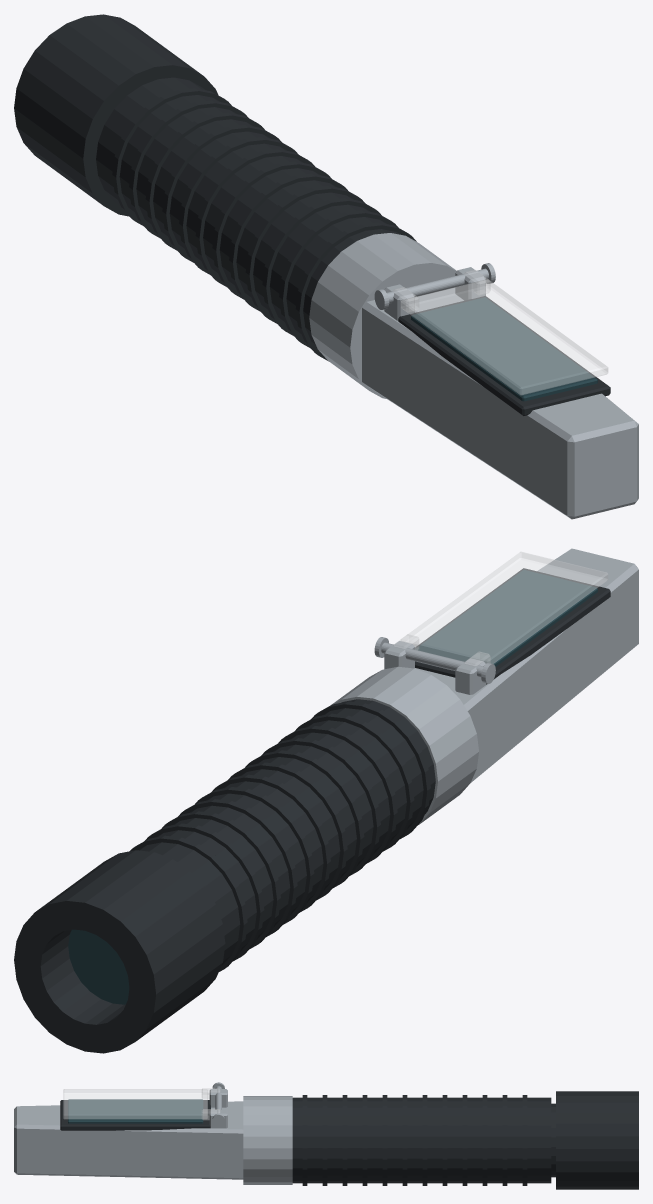
File: full.glb
3 renders of one model, top to bottom at view 1: azimuth 30°, elevation 25°; view 2: azimuth 150°, elevation 25°; view 3: azimuth 270°, elevation 25°, orthographic. The views are drawn at different scales.
Visible parts, largest first — view 1: Tapered sample head, Coaxial grip, Flared open eyecup, Daylight transparent flap, Front metal collar, Dark rectangular prism, Prism seating surround, Grip ridge 0, Grip ridge 11, Grip ridge 3, Grip ridge 5, Grip ridge 6 (+10 smaller); view 2: Flared open eyecup, Coaxial grip, Tapered sample head, Daylight transparent flap, Dark rectangular prism, Front metal collar, Recessed ocular glass, Prism seating surround, Grip ridge 6, Grip ridge 4, Grip ridge 1, Grip ridge 5 (+10 smaller); view 3: Coaxial grip, Tapered sample head, Flared open eyecup, Front metal collar, Daylight transparent flap, Dark rectangular prism, Prism seating surround, Grip ridge 0, Grip ridge 1, Grip ridge 2, Grip ridge 3, Grip ridge 4 (+10 smaller).
Boxes of the visible parts, <box> form: Tapered sample head: <box>362,287,638,519</box>; Coaxial grip: <box>96,77,401,347</box>; Flared open eyecup: <box>14,14,218,216</box>; Daylight transparent flap: <box>401,279,607,395</box>; Front metal collar: <box>309,233,456,398</box>; Dark rectangular prism: <box>411,297,597,401</box>; Prism seating surround: <box>398,296,610,415</box>; Grip ridge 0: <box>295,222,416,361</box>; Grip ridge 11: <box>112,88,231,226</box>; Grip ridge 3: <box>245,186,365,323</box>; Grip ridge 5: <box>212,161,331,299</box>; Grip ridge 6: <box>195,149,314,287</box>; Flared open eyecup: <box>14,850,225,1053</box>; Coaxial grip: <box>138,699,435,965</box>; Tapered sample head: <box>414,548,638,782</box>; Daylight transparent flap: <box>401,552,607,663</box>; Dark rectangular prism: <box>415,570,597,666</box>; Front metal collar: <box>331,666,478,824</box>; Recessed ocular glass: <box>68,929,129,1004</box>; Prism seating surround: <box>415,568,610,684</box>; Grip ridge 6: <box>212,774,330,912</box>; Grip ridge 4: <box>245,750,364,887</box>; Grip ridge 1: <box>295,713,414,851</box>; Grip ridge 5: <box>228,762,347,900</box>; Coaxial grip: <box>292,1097,551,1183</box>; Tapered sample head: <box>14,1101,243,1179</box>; Flared open eyecup: <box>556,1091,638,1189</box>; Front metal collar: <box>243,1096,292,1184</box>; Daylight transparent flap: <box>63,1089,207,1118</box>; Dark rectangular prism: <box>68,1099,203,1123</box>; Prism seating surround: <box>60,1100,210,1130</box>; Grip ridge 0: <box>302,1095,307,1185</box>; Grip ridge 1: <box>322,1095,327,1185</box>; Grip ridge 2: <box>342,1095,347,1185</box>; Grip ridge 3: <box>362,1095,367,1185</box>; Grip ridge 4: <box>382,1095,387,1185</box>.
Bounding box in the file's own units: 0.032 × 0.032 × 0.203.
